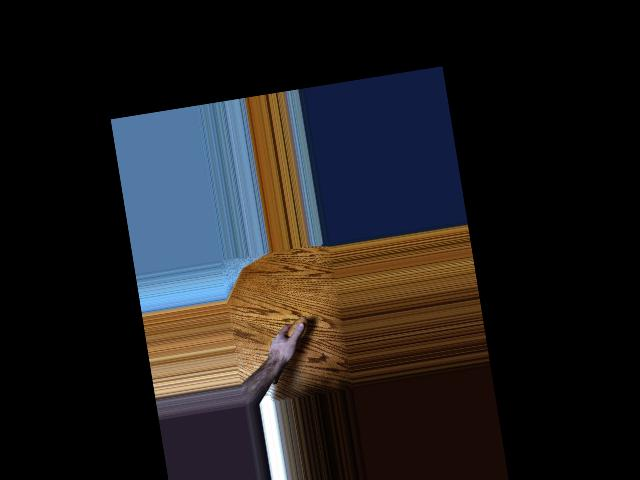sweet_potato: (257, 315, 317, 388)
